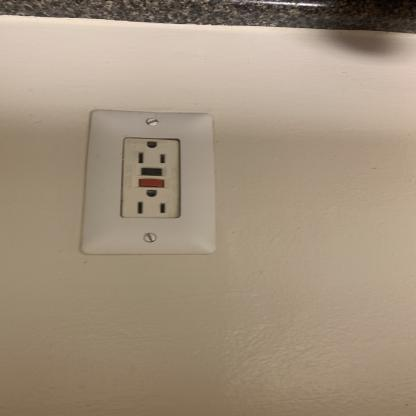OUTLET: (81, 112, 213, 256)
